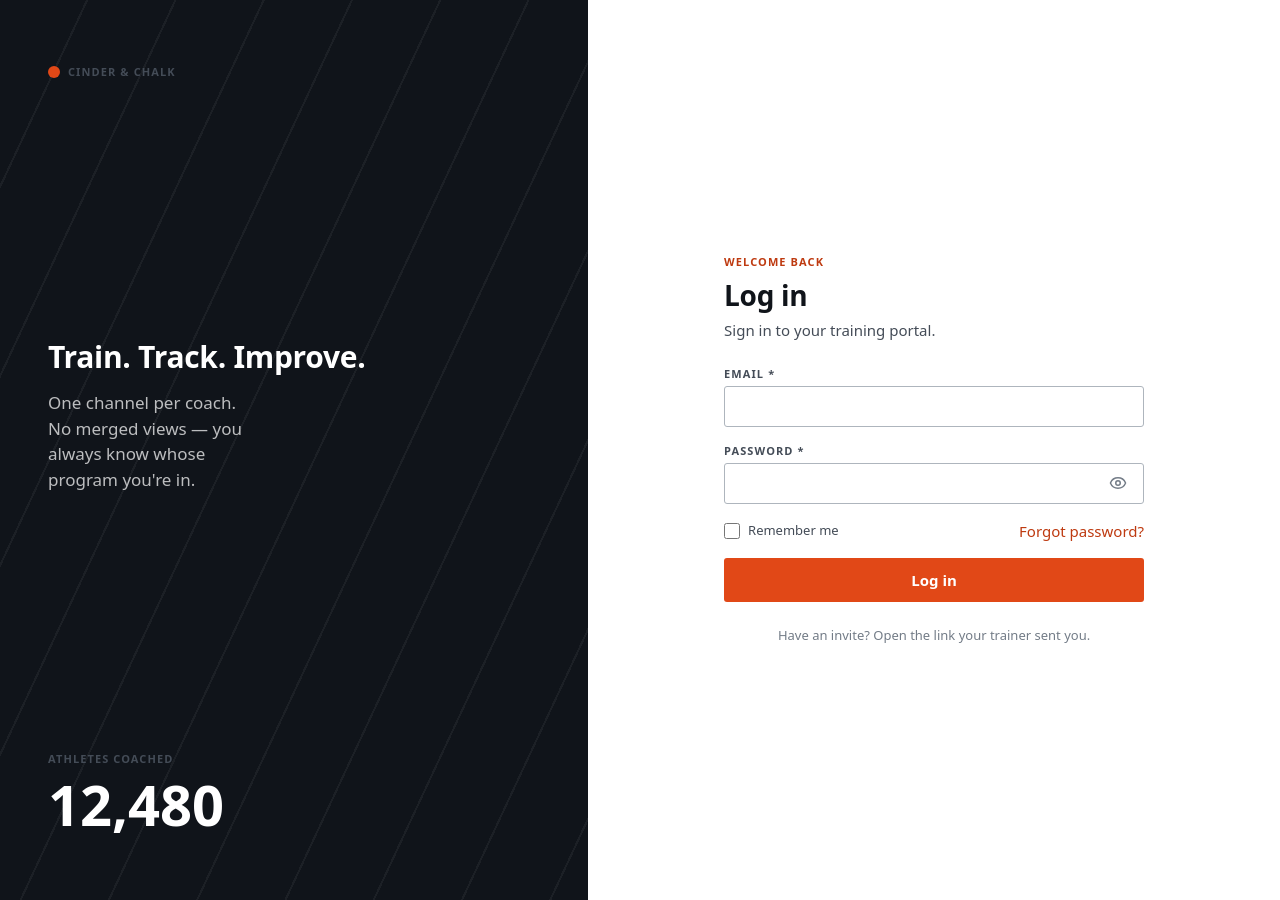
Test: Login › offers Resend on EMAIL_NOT_VERIFIED and posts the resend request
Type "dana@x.com" into the field labelled "Email *" at point(934, 406), box [724,386,1144,427]
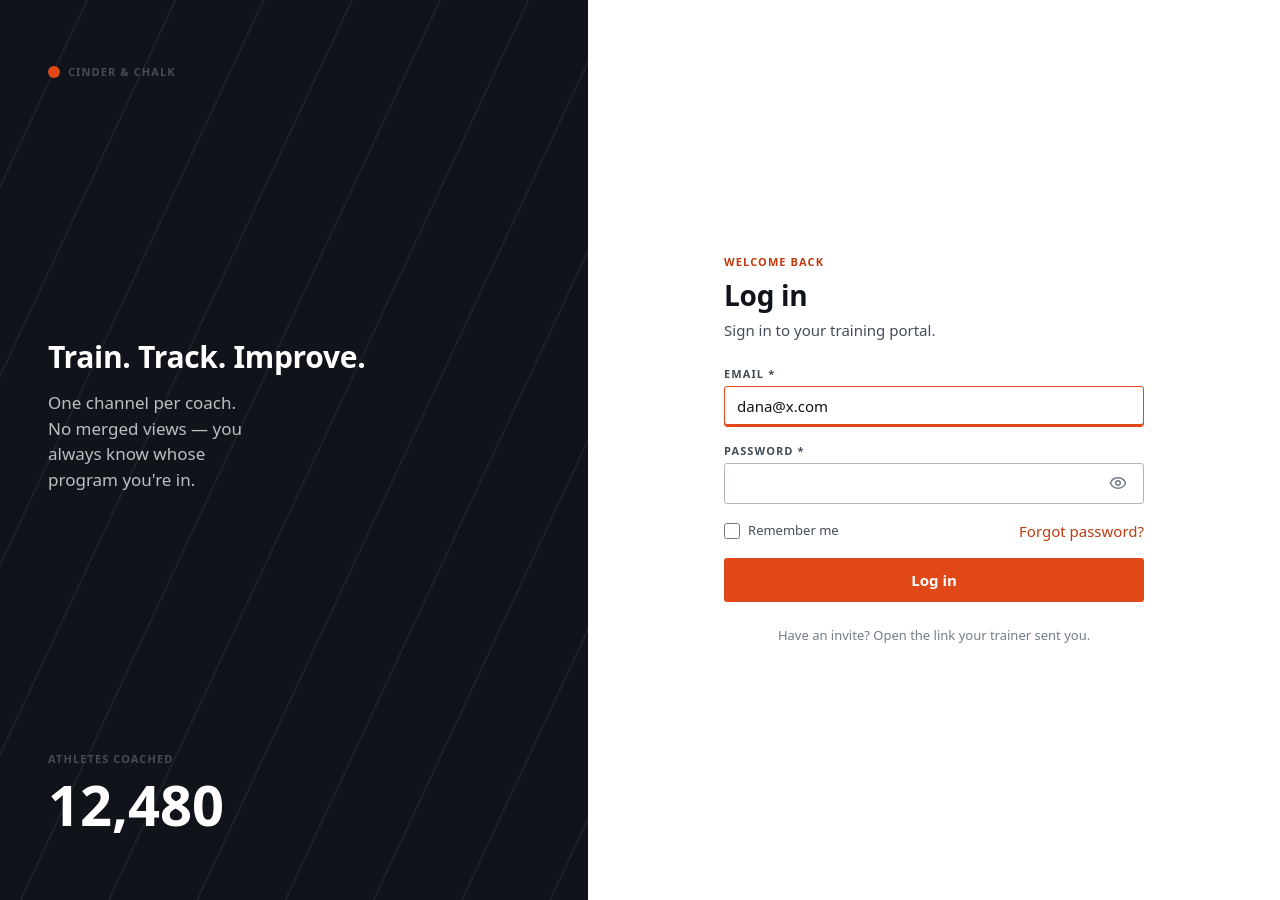
Type "secret123" into the password field labelled "Password *" at point(934, 483), box [724,463,1144,504]
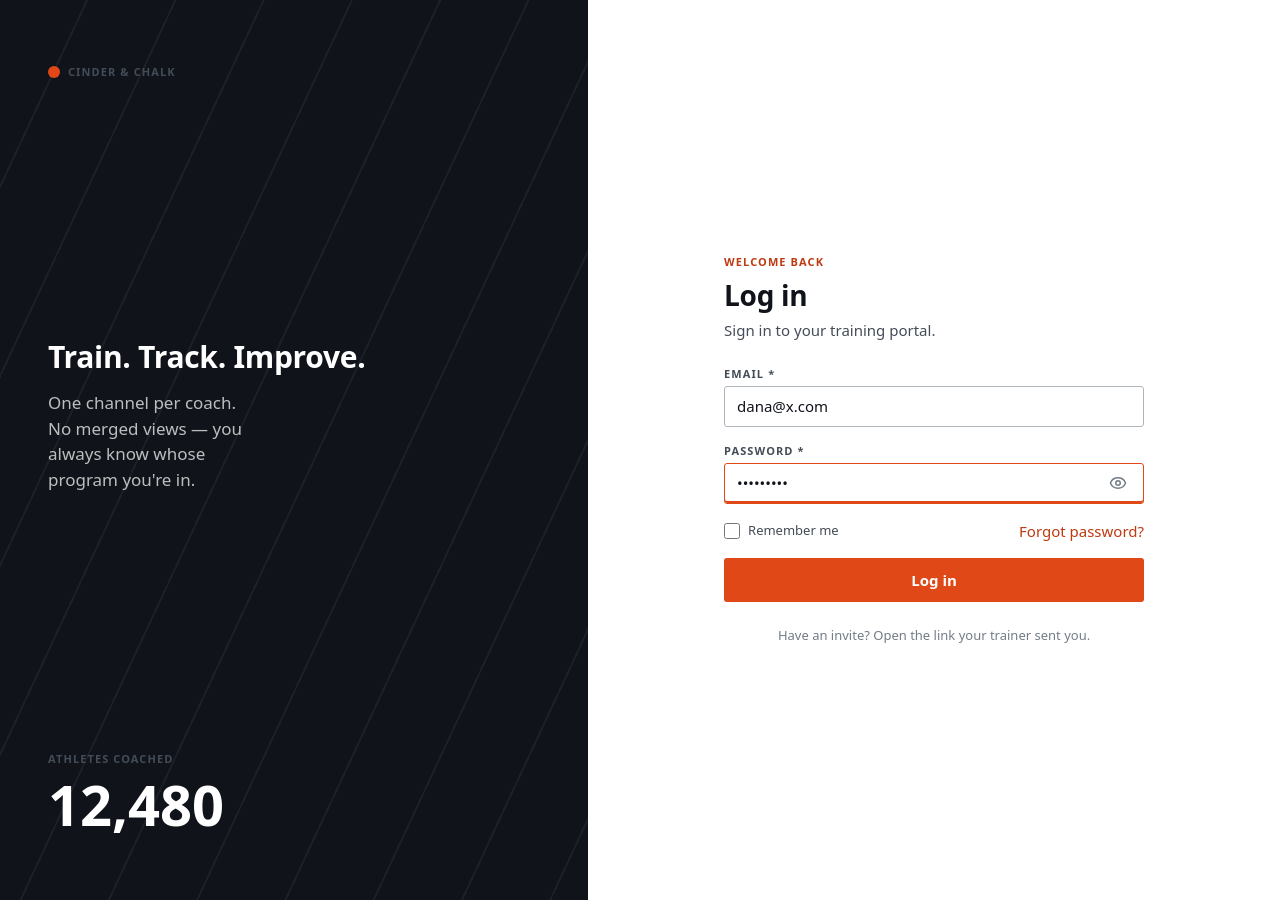
Click the button "Log in" at point(934, 580), box [724,558,1144,602]
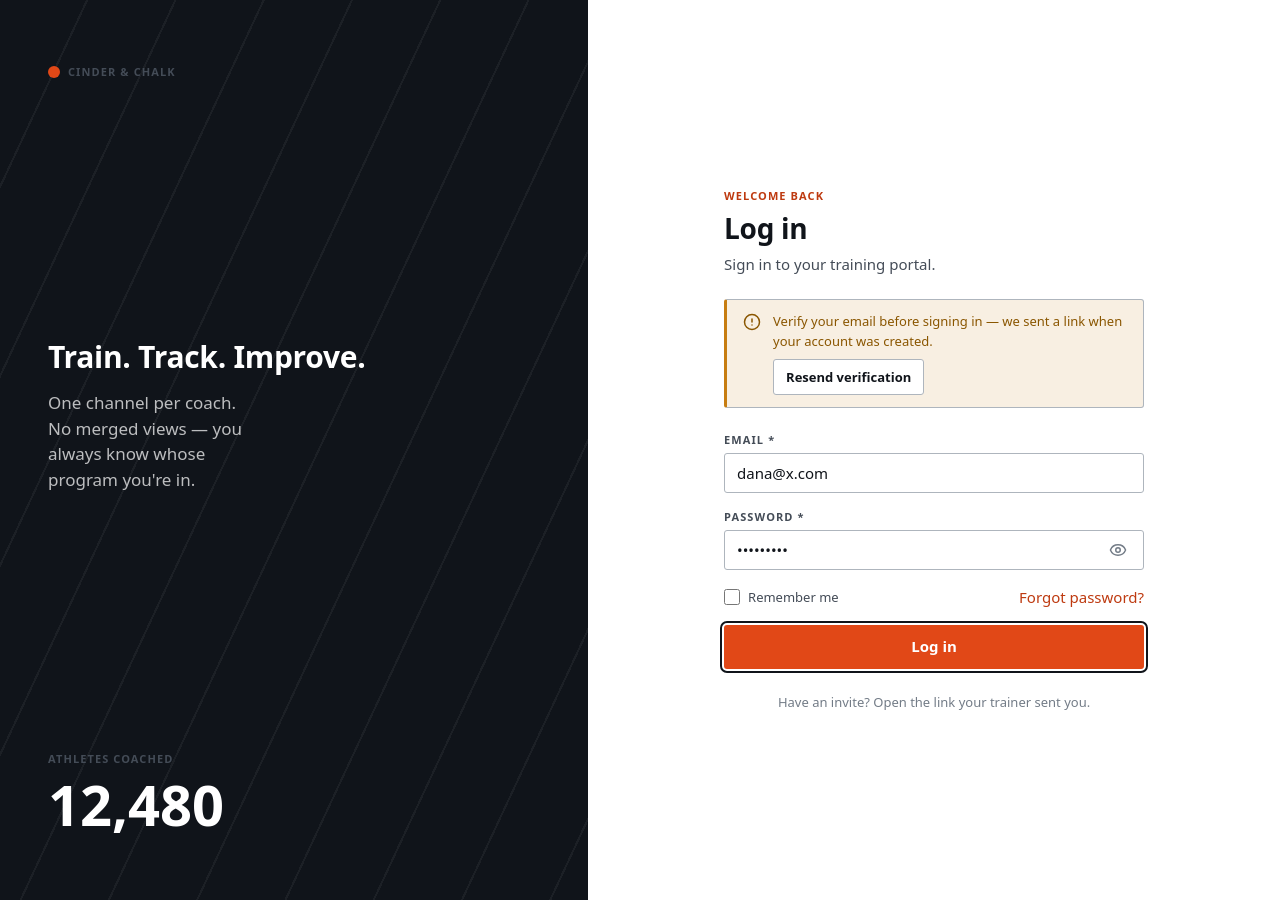
Click the button "Resend verification" at point(849, 377), box [773,359,924,395]
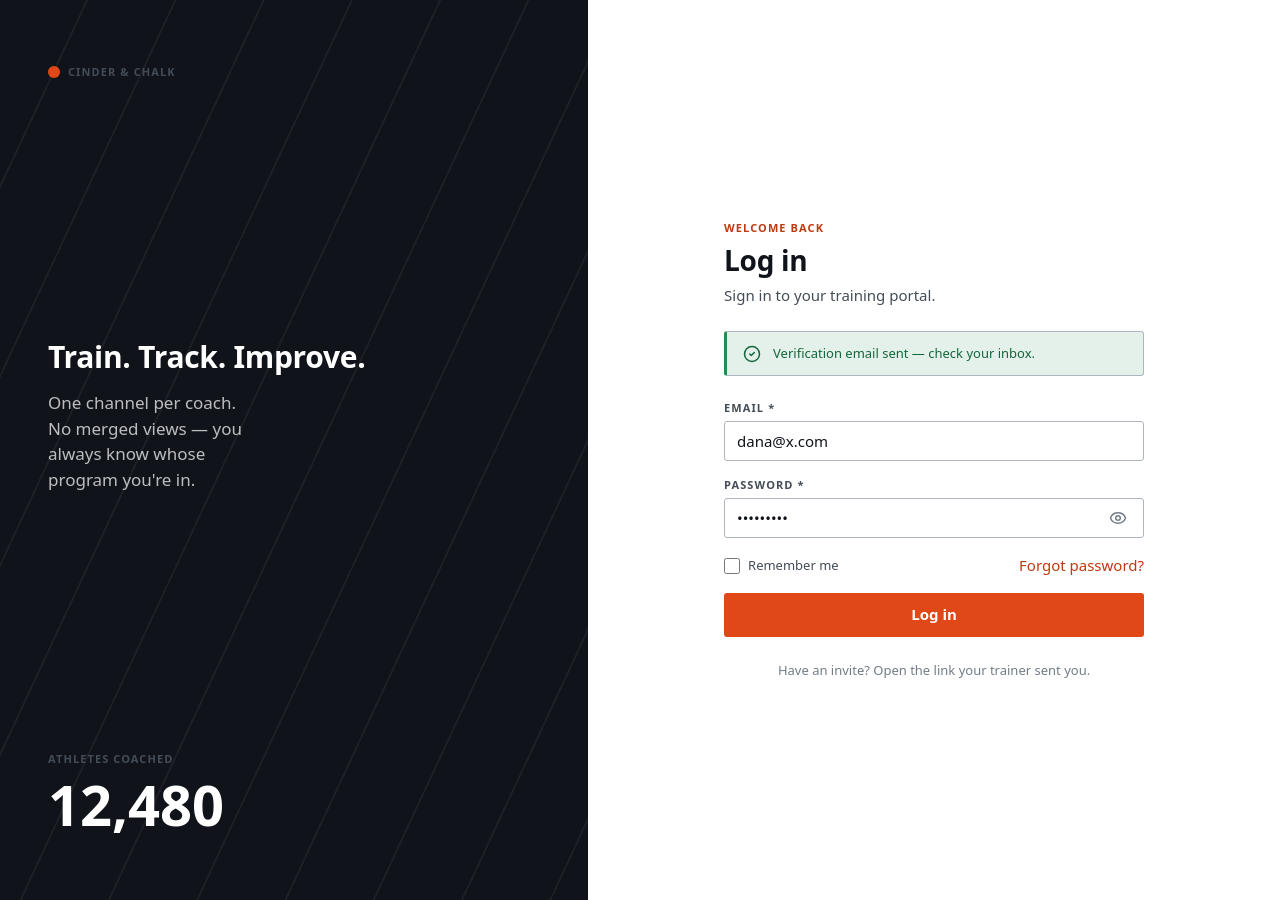
Expected: the text "Verification email sent — check your inbox." is shown, [773,344,1035,362]
